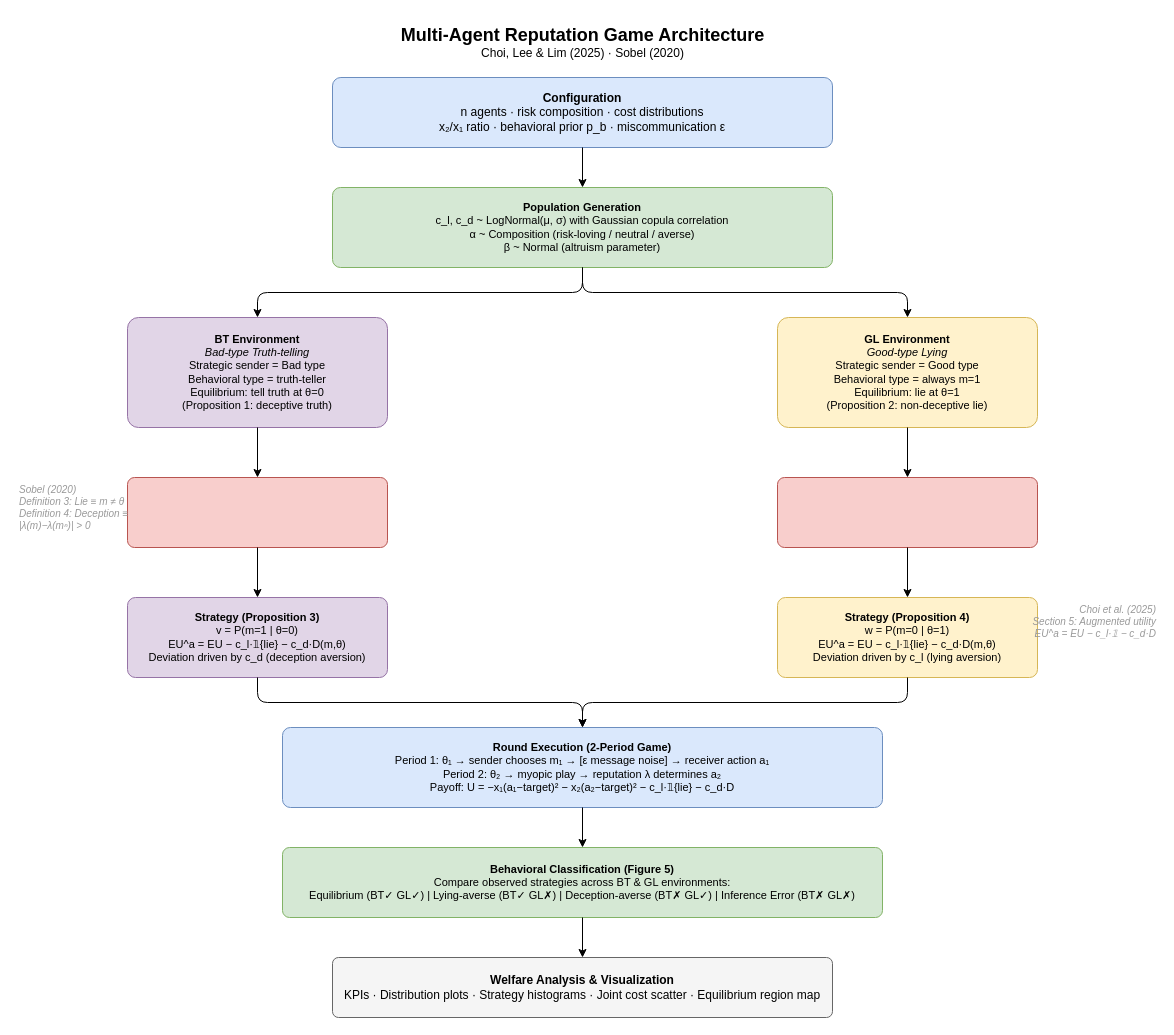
This 1174x1035 diagram has some shape labels left out. The shapes that lost their labels are listed below. From the top down, each one's box as (x1, y1, x2, y2) in pixels, then its label:
(126, 476, 388, 548): Bayesian Belief Update λ(m,θ,v) = Pr(τ=G | m,θ) Receiver action: a(m) = E[θ|m]
(776, 476, 1038, 548): Bayesian Belief Update λ(m,θ,w) = Pr(τ=G | m,θ) Receiver action: a(m) = E[θ|m]
